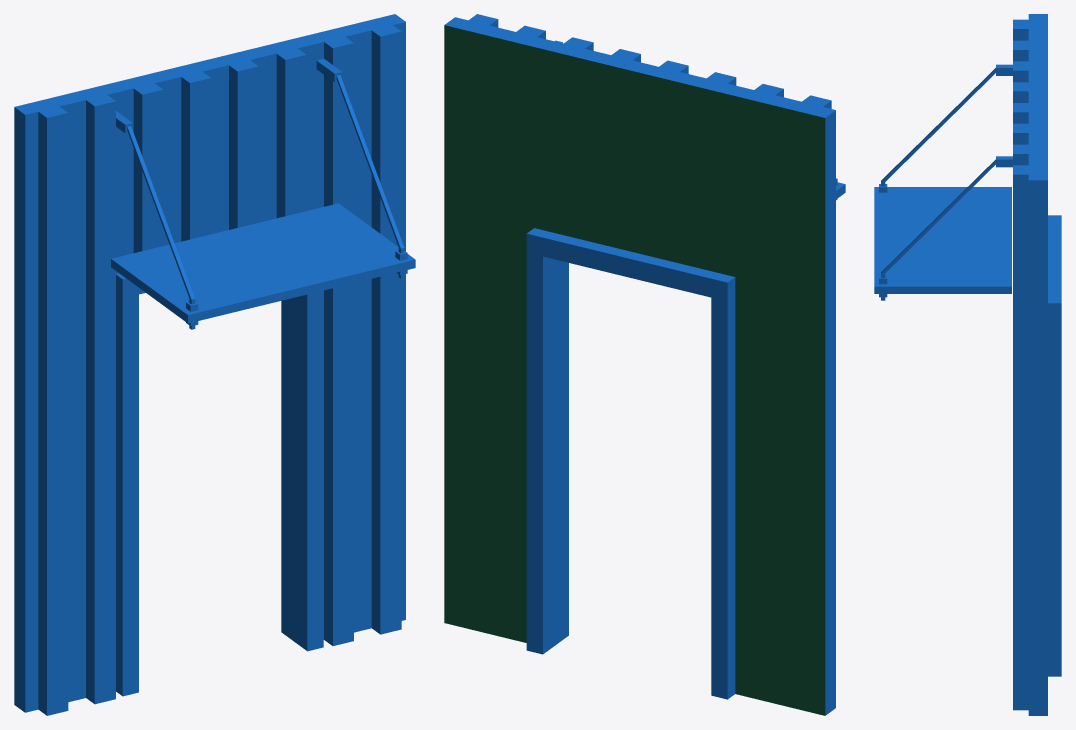
Rendered from T_door_arch1.fbx.
3 views of the same model, side by side, from view 1: azimuth 30°, elevation 25°; view 2: azimuth 150°, elevation 25°; view 3: azimuth 270°, elevation 25° (orthographic). The views are drawn at different scales.
Parts seen in each view (by area): view 1: door_arch1; view 2: door_arch1; view 3: door_arch1.
Part boxes in pixels (box(x1,y1,x2,y2)): door_arch1: box(14, 14, 415, 715); door_arch1: box(444, 14, 845, 715); door_arch1: box(874, 14, 1061, 715).
Size of the model in its own units: 200 by 300 by 95.19.
